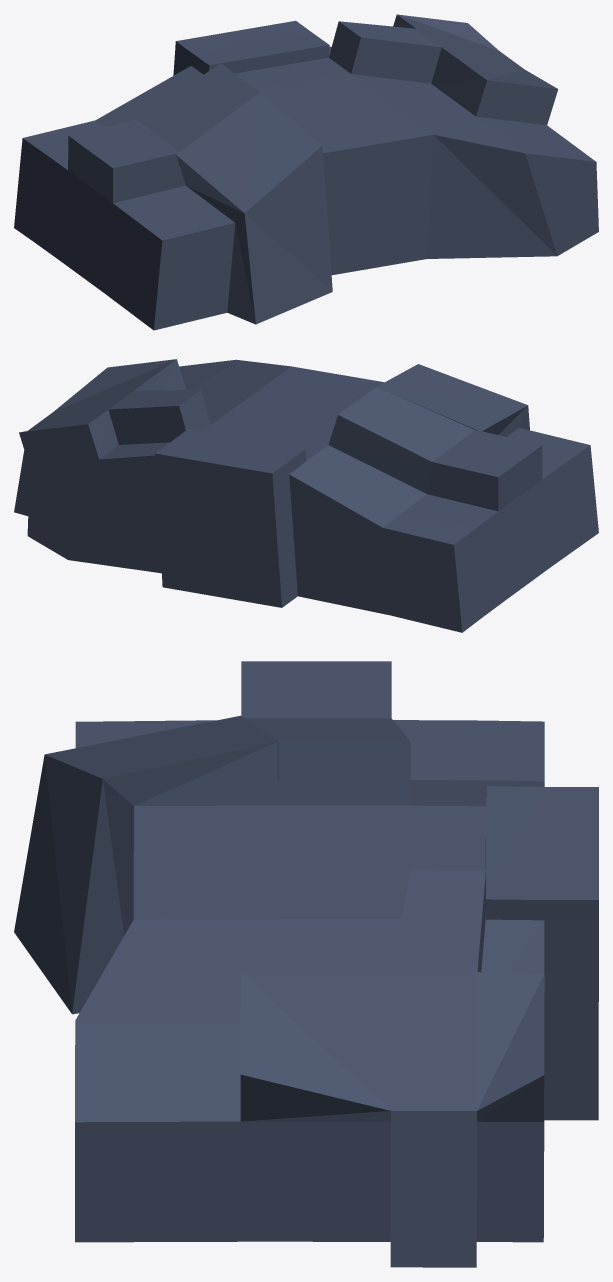
Rendered from night_Small_Rock.fbx.
3 renders of one model, top to bottom at view 1: azimuth 30°, elevation 25°; view 2: azimuth 150°, elevation 25°; view 3: azimuth 270°, elevation 25°, orthographic. The views are drawn at different scales.
Visible parts, largest first — view 1: pCube1; view 2: pCube1; view 3: pCube1.
Boxes of the visible parts, left/top/right/bottom form: pCube1: left=14, top=14, right=598, bottom=330; pCube1: left=14, top=359, right=598, bottom=632; pCube1: left=14, top=661, right=598, bottom=1267.
Size of the model in its own units: 4.15 by 1.47 by 2.62.
